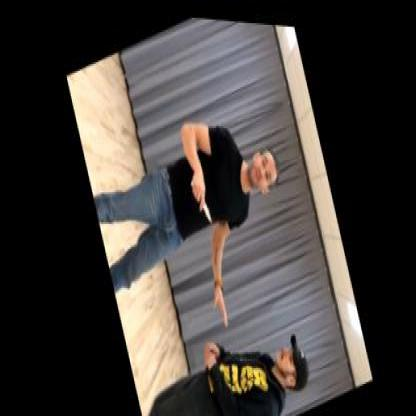knife: (185, 164, 214, 226)
